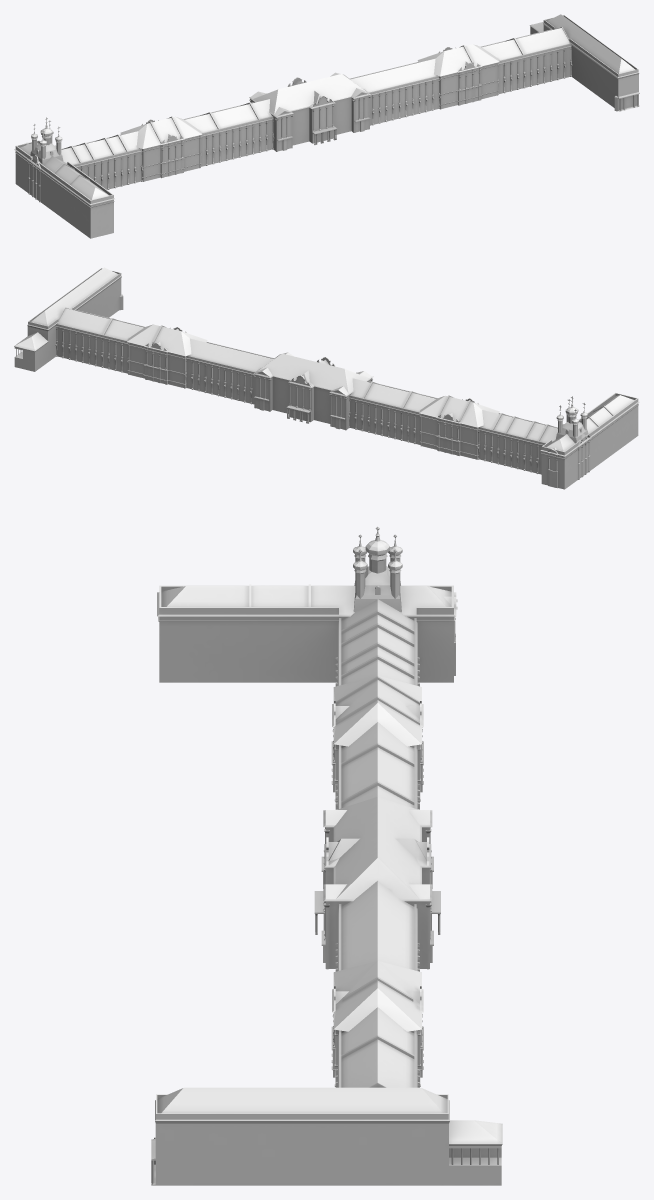
File: ekaterininskiydvorec.dae
3 renders of one model, top to bottom at view 1: azimuth 30°, elevation 25°; view 2: azimuth 150°, elevation 25°; view 3: azimuth 270°, elevation 25°, orthographic. The views are drawn at different scales.
Parts seen in each view (by area): view 1: ekaterininskiydvorec, ekaterininskiydvorec3, ekaterininskiydvorec1, ekaterininskiydvorec2; view 2: ekaterininskiydvorec, ekaterininskiydvorec3, ekaterininskiydvorec1, ekaterininskiydvorec2; view 3: ekaterininskiydvorec2, ekaterininskiydvorec, ekaterininskiydvorec1, ekaterininskiydvorec3.
Part boxes in pixels (x1,y1,x2,y2): ekaterininskiydvorec: (274,28,572,134); ekaterininskiydvorec3: (61,77,337,189); ekaterininskiydvorec1: (14,117,114,238); ekaterininskiydvorec2: (529,14,639,111); ekaterininskiydvorec: (55,308,348,413); ekaterininskiydvorec3: (286,357,557,474); ekaterininskiydvorec1: (540,392,639,489); ekaterininskiydvorec2: (14,267,123,371); ekaterininskiydvorec2: (151,1082,502,1185); ekaterininskiydvorec: (321,797,433,1087); ekaterininskiydvorec1: (157,526,457,682); ekaterininskiydvorec3: (314,599,440,934).
Bounding box in the file's own units: 0.4649 × 0.131 × 0.0629.
1 material, 1 textured.
